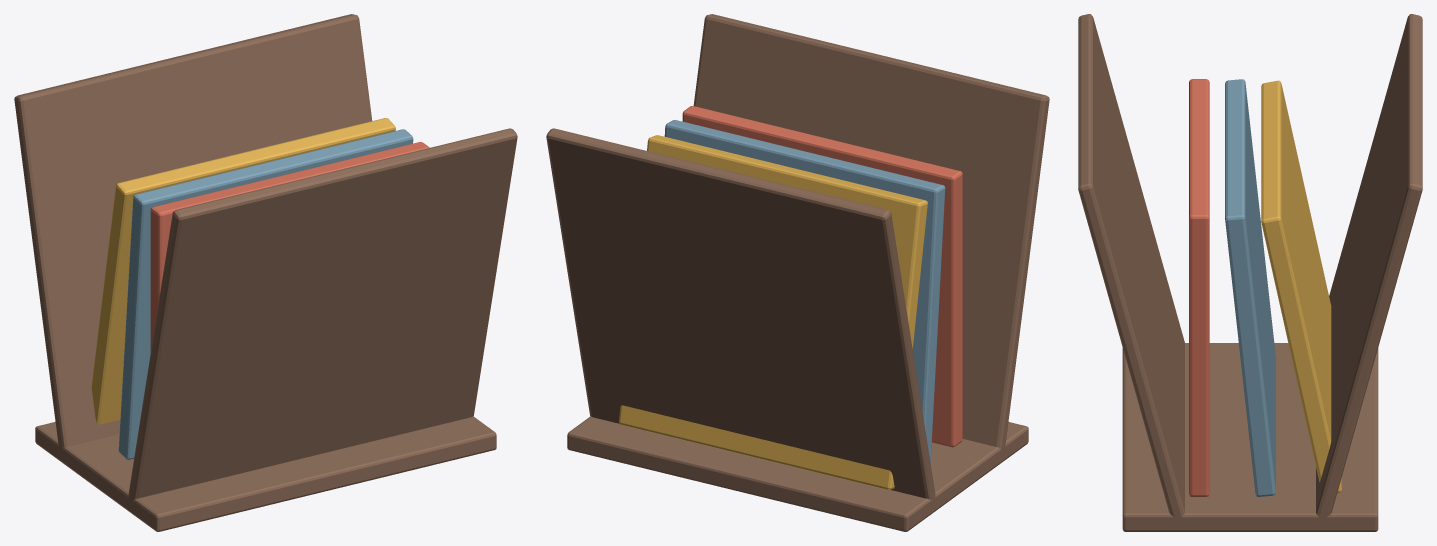
File: hh_magazine_rack.glb
3 views of the same model, side by side, from view 1: azimuth 30°, elevation 25°; view 2: azimuth 150°, elevation 25°; view 3: azimuth 270°, elevation 25° (orthographic). The views are drawn at different scales.
Parts seen in each view (by area): view 1: side, side.001, base, magazine.001, magazine.002, magazine; view 2: side.001, side, base, magazine.002, magazine, magazine.001; view 3: base, side, side.001, magazine.002, magazine.001, magazine.
Boxes of the visible parts, x1,y1,x2,y2 form: side: (128,128,517,506); side.001: (14,14,372,455); base: (35,416,496,531); magazine.001: (118,129,413,459); magazine.002: (91,118,395,424); magazine: (150,142,429,351); side.001: (546,128,935,500); side: (693,14,1049,454); base: (567,416,1028,531); magazine.002: (619,135,927,489); magazine: (682,106,962,447); magazine.001: (664,120,945,462); base: (1122,343,1378,531); side: (1078,14,1184,524); side.001: (1316,14,1422,524); magazine.002: (1261,80,1341,493); magazine.001: (1225,79,1275,496); magazine: (1189,79,1209,496).
Bounding box in the file's own units: 0.4 × 0.375 × 0.3366.
